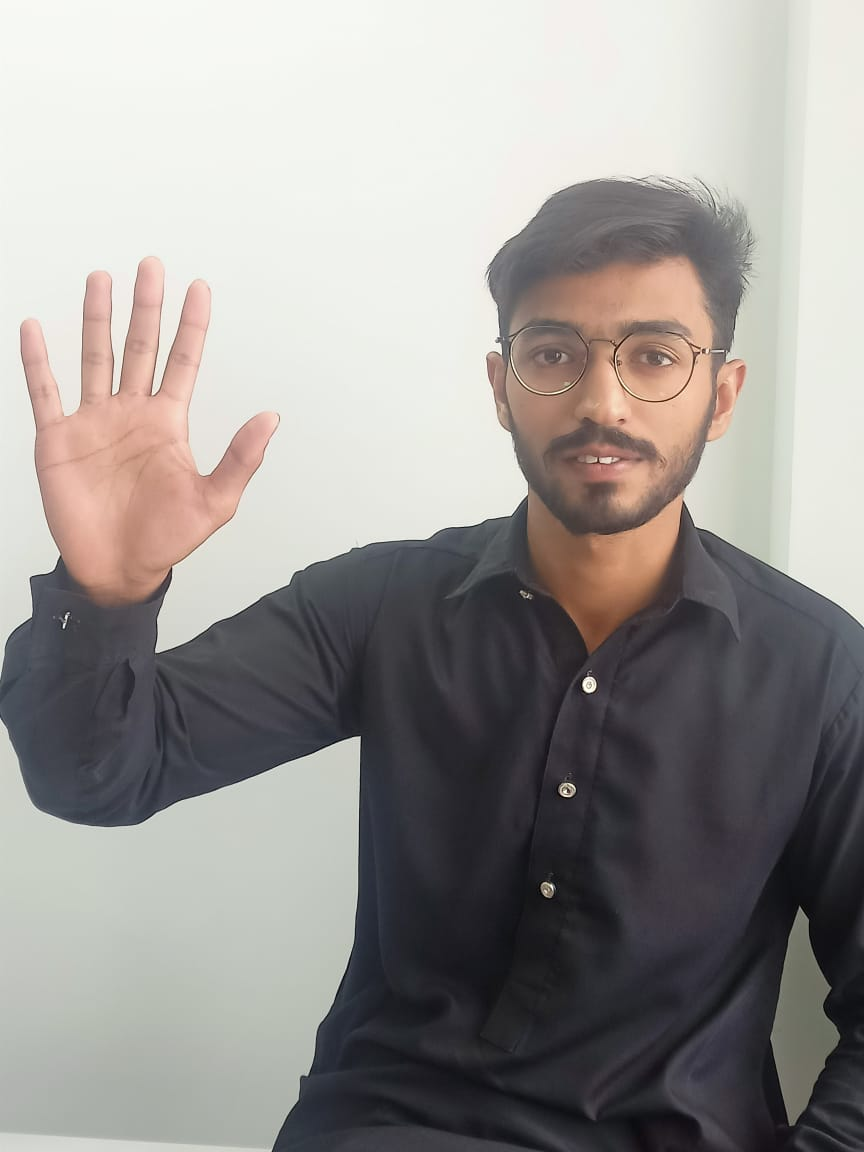Hello: (10, 249, 303, 597)
